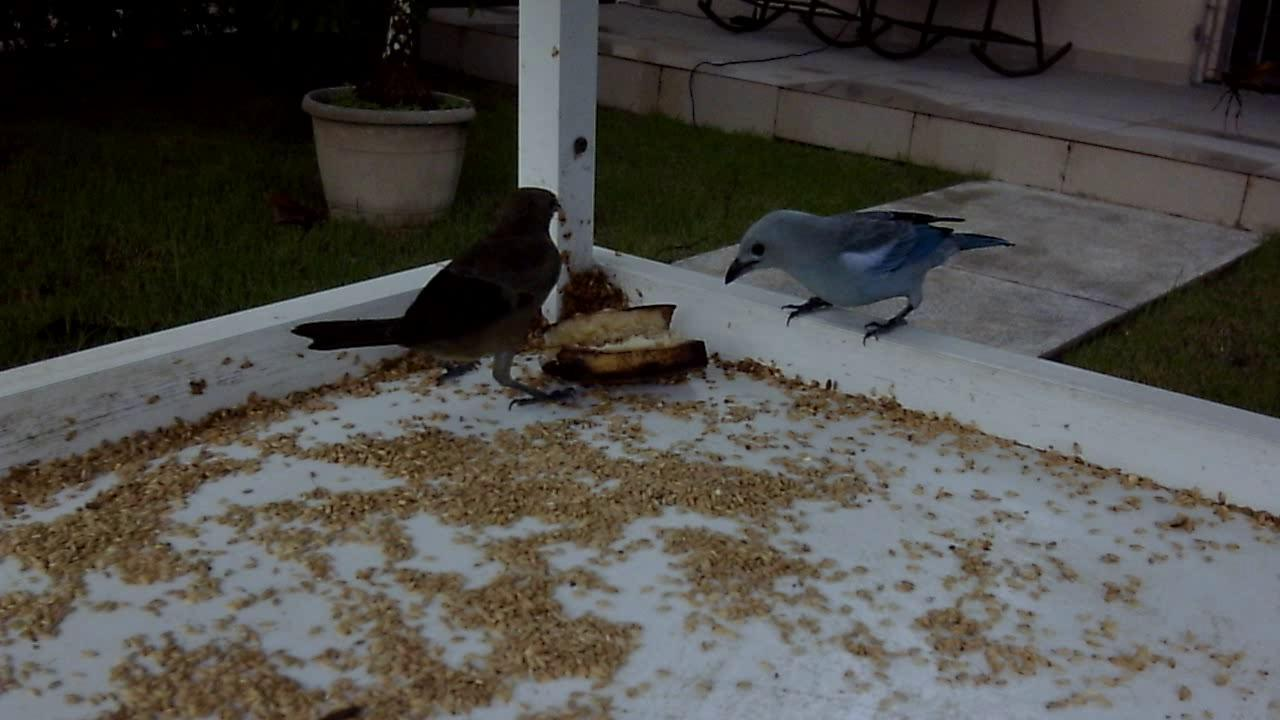sanhaco_da_amazonia: (717, 184, 1023, 356)
sanhaco_do_coqueiro: (285, 178, 570, 406)
